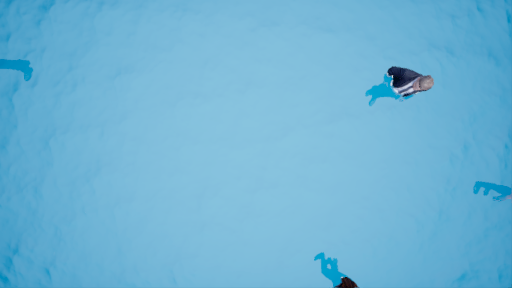person: (362, 61, 434, 109), (308, 239, 357, 288), (465, 172, 512, 207)
